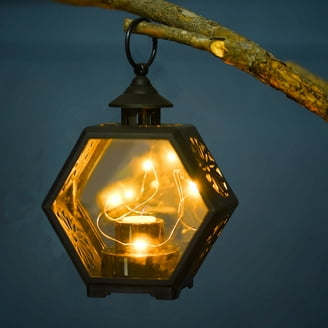Open-Flame-Hazard: (49, 125, 212, 287)
